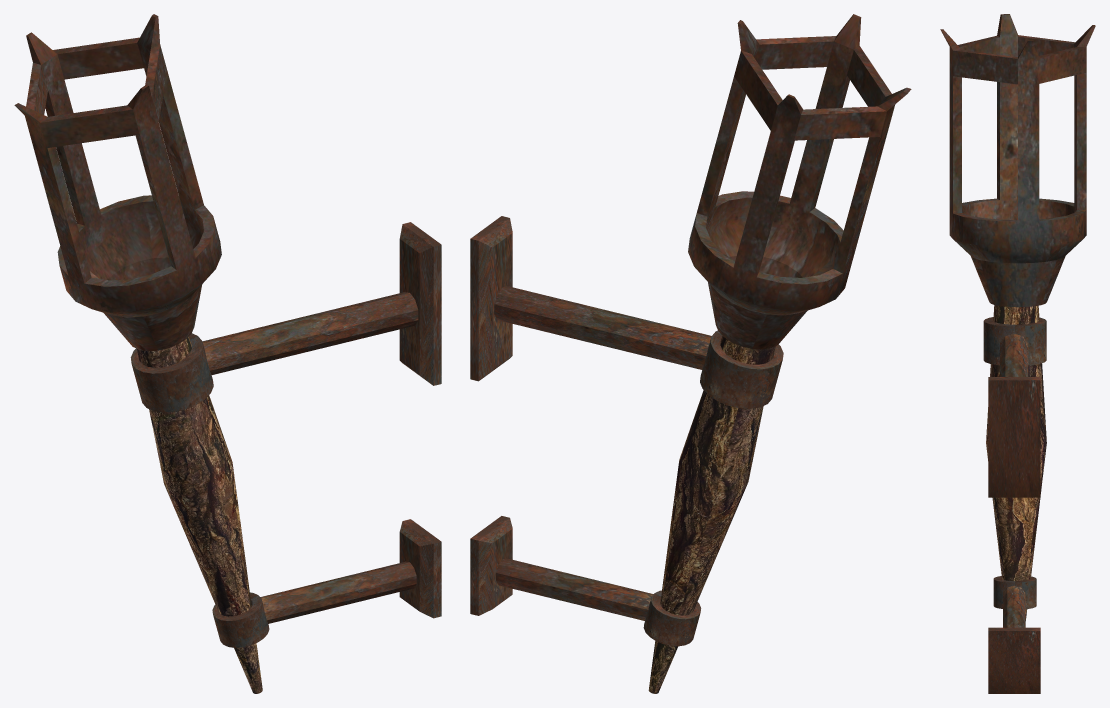
File: TORCH_TREE.fbx
3 renders of one model, left to right at view 1: azimuth 30°, elevation 25°; view 2: azimuth 150°, elevation 25°; view 3: azimuth 270°, elevation 25°, orthographic. The views are drawn at different scales.
Parts seen in each view (by area): view 1: pPipe1, pCylinder1, pCylinder2, pCube1, pCylinder3, pPipe2, pCube2, pPipe3; view 2: pPipe1, pCylinder1, pCylinder2, pCube1, pCylinder3, pPipe2, pCube2, pPipe3; view 3: pPipe1, pCube1, pCylinder1, pCube2, pPipe2, pCylinder2, pCylinder3, pPipe3.
Boxes of the visible parts, left/top/right/bottom form: pPipe1: left=14, top=14, right=221, bottom=351; pCylinder1: left=137, top=336, right=262, bottom=693; pCylinder2: left=202, top=292, right=418, bottom=374; pCube1: left=399, top=222, right=441, bottom=385; pCylinder3: left=260, top=561, right=416, bottom=623; pPipe2: left=130, top=333, right=213, bottom=412; pCube2: left=399, top=519, right=441, bottom=618; pPipe3: left=212, top=592, right=269, bottom=647; pPipe1: left=688, top=14, right=911, bottom=349; pCylinder1: left=648, top=336, right=775, bottom=693; pCylinder2: left=494, top=286, right=711, bottom=369; pCube1: left=470, top=216, right=512, bottom=381; pCylinder3: left=496, top=558, right=653, bottom=620; pPipe2: left=700, top=330, right=783, bottom=408; pCube2: left=470, top=516, right=512, bottom=615; pPipe3: left=643, top=590, right=701, bottom=646; pPipe1: left=940, top=14, right=1095, bottom=307; pCube1: left=988, top=377, right=1040, bottom=497; pCylinder1: left=986, top=305, right=1046, bottom=620; pCube2: left=988, top=627, right=1040, bottom=693; pPipe2: left=983, top=317, right=1046, bottom=365; pCylinder2: left=1000, top=334, right=1028, bottom=376; pCylinder3: left=1003, top=585, right=1025, bottom=627; pPipe3: left=993, top=576, right=1036, bottom=609.
Bounding box in the file's own units: 0.2592 × 0.4142 × 0.0998.
2 materials, 2 textured.
